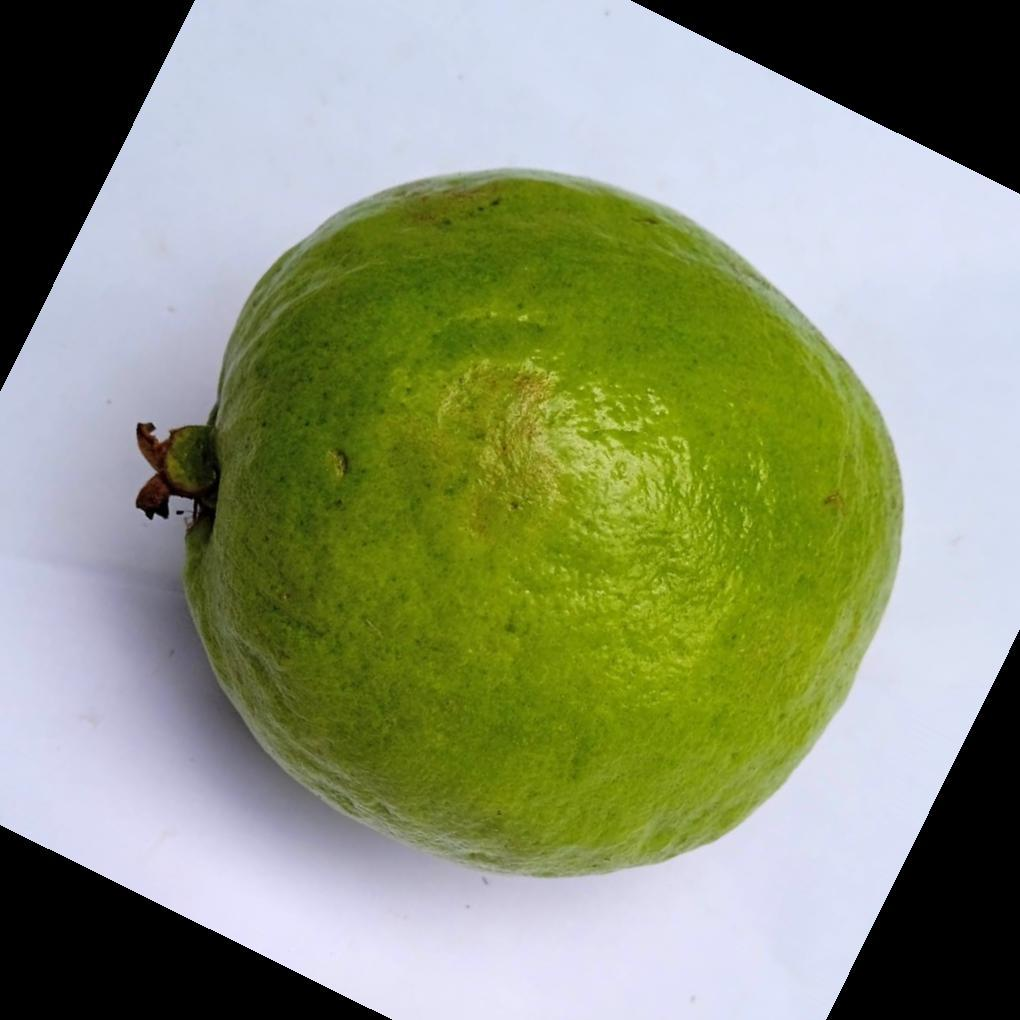FreshGuava: (139, 171, 906, 883)
